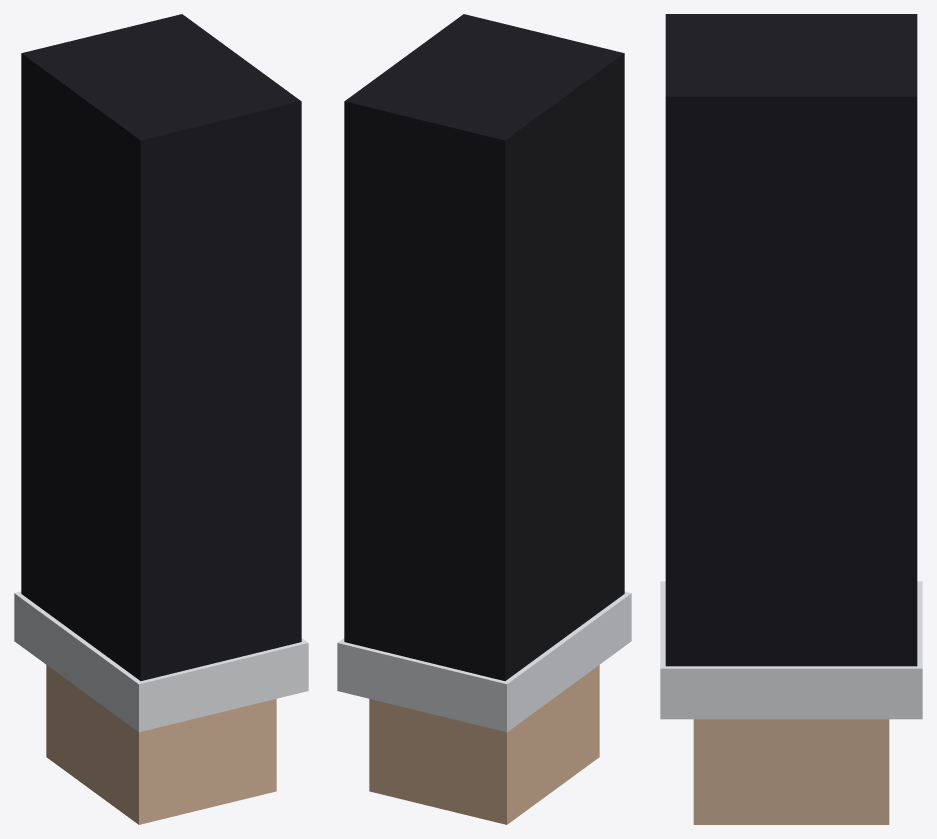
File: suitman_arm.obj
3 renders of one model, left to right at view 1: azimuth 30°, elevation 25°; view 2: azimuth 150°, elevation 25°; view 3: azimuth 270°, elevation 25°, orthographic. The views are drawn at different scales.
Parts seen in each view (by area): view 1: suitman_arm; view 2: suitman_arm; view 3: suitman_arm.
Boxes of the visible parts, x1=… form: suitman_arm: x1=14, y1=14, x2=308, y2=824; suitman_arm: x1=337, y1=14, x2=631, y2=824; suitman_arm: x1=660, y1=14, x2=922, y2=824.
Size of the model in its own units: 0.074 by 0.29 by 0.094.
Materials: 1 (1 with a texture image).
